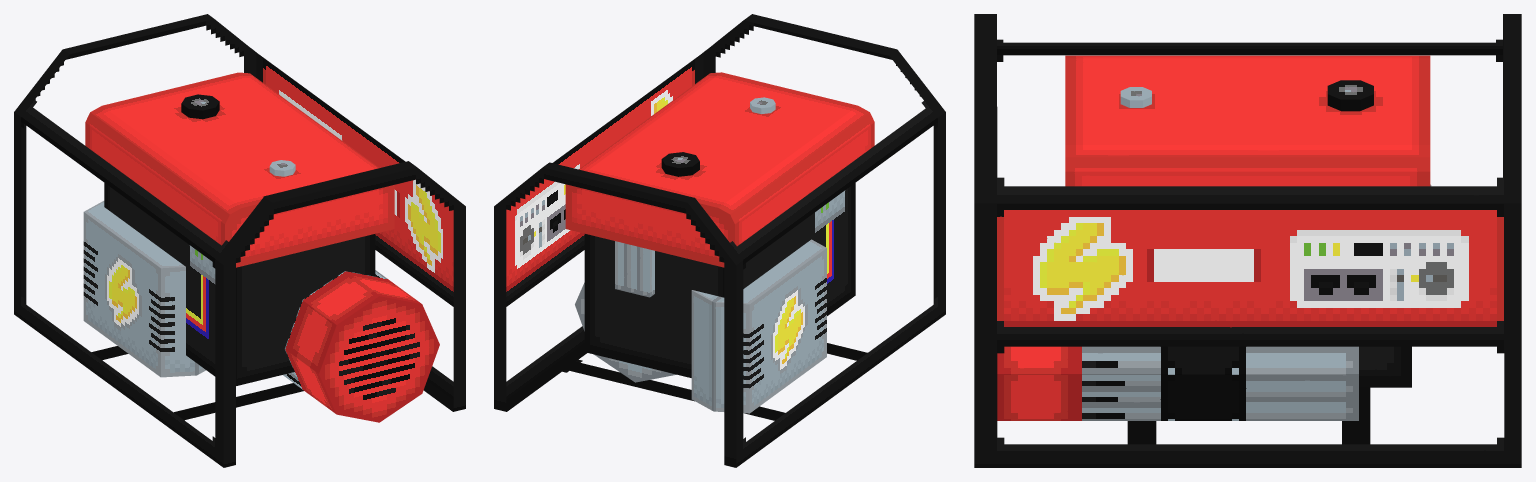
Rendered from powerSupply.glb.
The picture shows the model from 3 angles, left to right: view 1: azimuth 30°, elevation 25°; view 2: azimuth 150°, elevation 25°; view 3: azimuth 270°, elevation 25°; orthographic projection. The views are drawn at different scales.
Parts seen in each view (by area): view 1: 立方体, 立方体.001; view 2: 立方体, 立方体.001; view 3: 立方体.001, 立方体.
Boxes of the visible parts, box(x1,y1,x2,y2) form: 立方体: box(83, 72, 439, 422); 立方体.001: box(14, 14, 465, 467); 立方体: box(565, 72, 874, 413); 立方体.001: box(494, 14, 945, 467); 立方体.001: box(974, 14, 1521, 467); 立方体: box(997, 55, 1431, 420).
Bounding box in the file's own units: 2 × 2 × 3.
Materials: 1 (1 with a texture image).
